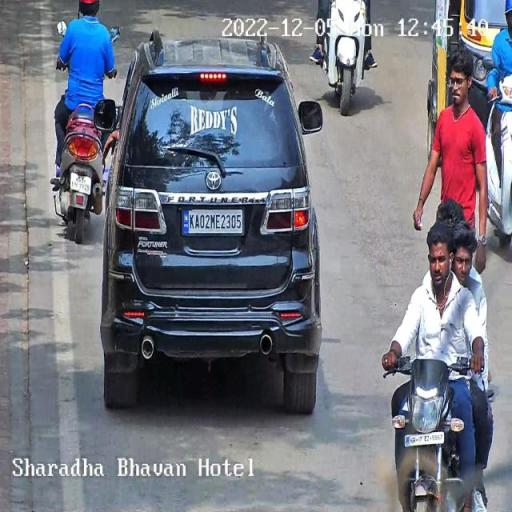tripple riding: (380, 191, 492, 375)
